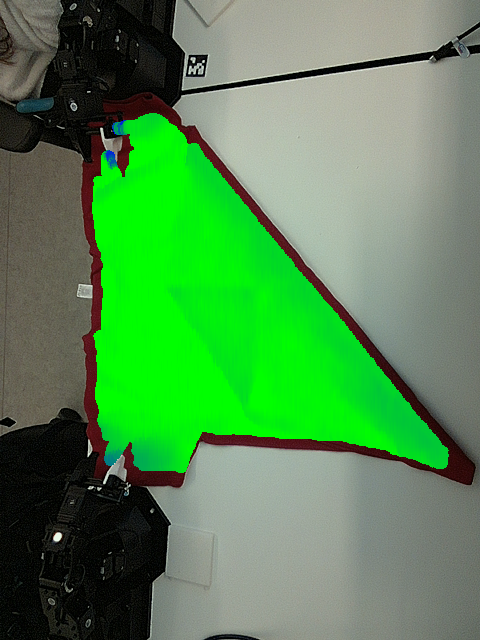V: (223, 273, 277, 319)
